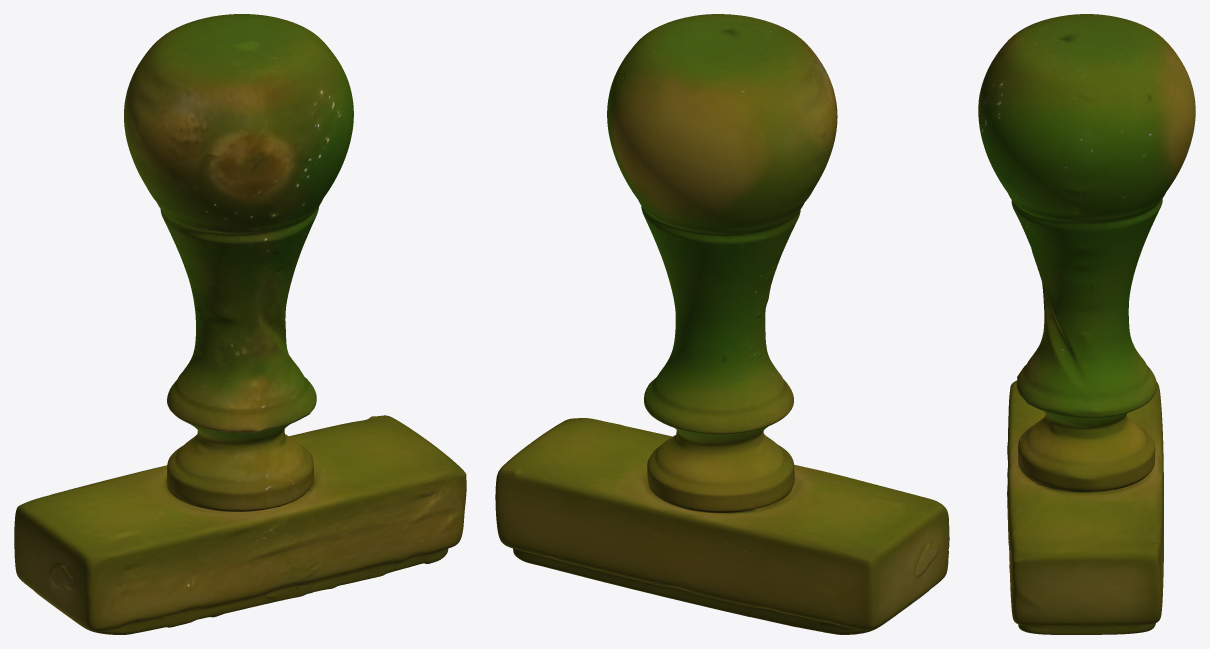
The picture shows the model from 3 angles, left to right: view 1: azimuth 30°, elevation 25°; view 2: azimuth 150°, elevation 25°; view 3: azimuth 270°, elevation 25°; orthographic projection. The views are drawn at different scales.
Visible parts, largest first — view 1: node_0; view 2: node_0; view 3: node_0.
Boxes of the visible parts, x1=… form: node_0: x1=14, y1=14, x2=466, y2=634; node_0: x1=495, y1=14, x2=949, y2=634; node_0: x1=978, y1=14, x2=1195, y2=634.
Size of the model in its own units: 0.7323 by 0.9806 by 0.3754.
Materials: 1 (1 with a texture image).
